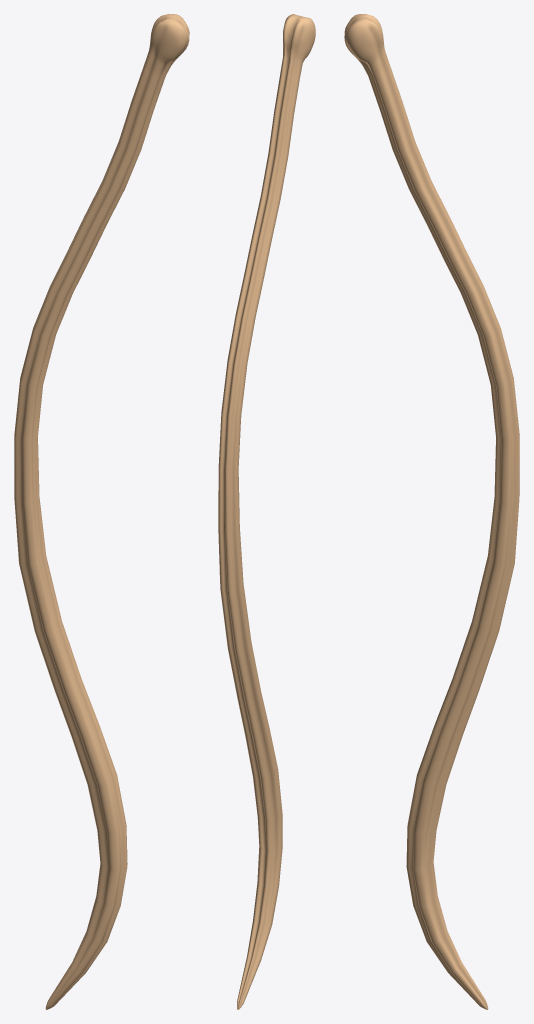
The model's file is Anatomy_Spinal_Cord.obj.
3 views of the same model, side by side, from view 1: azimuth 90°, elevation 25°; view 2: azimuth 150°, elevation 25°; view 3: azimuth 270°, elevation 25° (orthographic). The views are drawn at different scales.
Parts seen in each view (by area): view 1: Spinal_Cord; view 2: Spinal_Cord; view 3: Spinal_Cord.
Boxes of the visible parts, <box> form: Spinal_Cord: <box>14,14,189,1009</box>; Spinal_Cord: <box>218,14,315,1009</box>; Spinal_Cord: <box>344,14,519,1009</box>.
Size of the model in its own units: 1.91 by 64.15 by 10.26.
